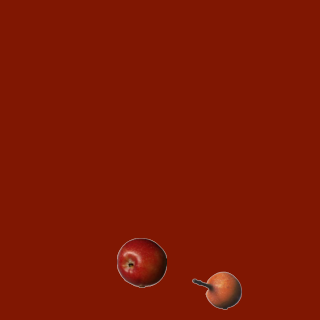Apple Braeburn: (116, 237, 166, 287)
Granadilla: (191, 265, 241, 315)
